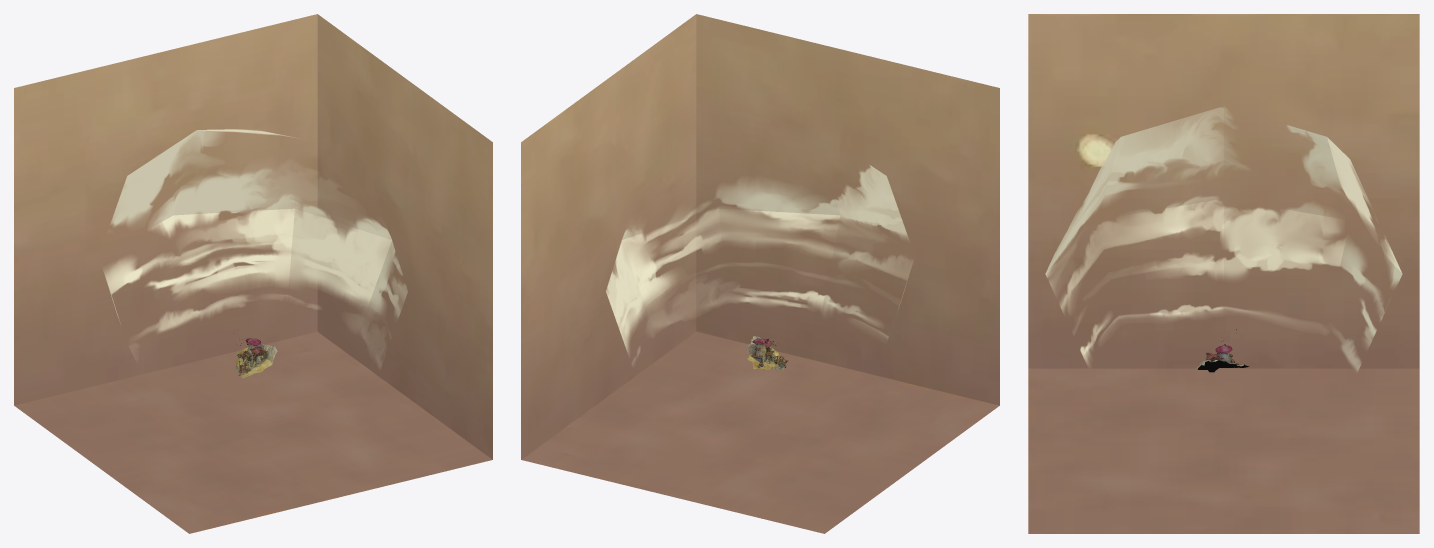
Rendered from house-mobile.glb.
3 views of the same model, side by side, from view 1: azimuth 30°, elevation 25°; view 2: azimuth 150°, elevation 25°; view 3: azimuth 270°, elevation 25° (orthographic). The views are drawn at different scales.
Parts seen in each view (by area): view 1: skybox, clouds, wm; view 2: skybox, clouds, wm; view 3: skybox, clouds.
Boxes of the visible parts, <box> form: skybox: <box>14,14,492,533</box>; clouds: <box>103,129,407,368</box>; wm: <box>229,333,277,377</box>; skybox: <box>521,14,999,533</box>; clouds: <box>606,165,912,364</box>; wm: <box>747,336,787,370</box>; skybox: <box>1028,14,1419,533</box>; clouds: <box>1045,107,1402,371</box>.
Size of the model in its own units: 66.34 by 66.34 by 66.34.
Materials: 5 (4 with a texture image).
